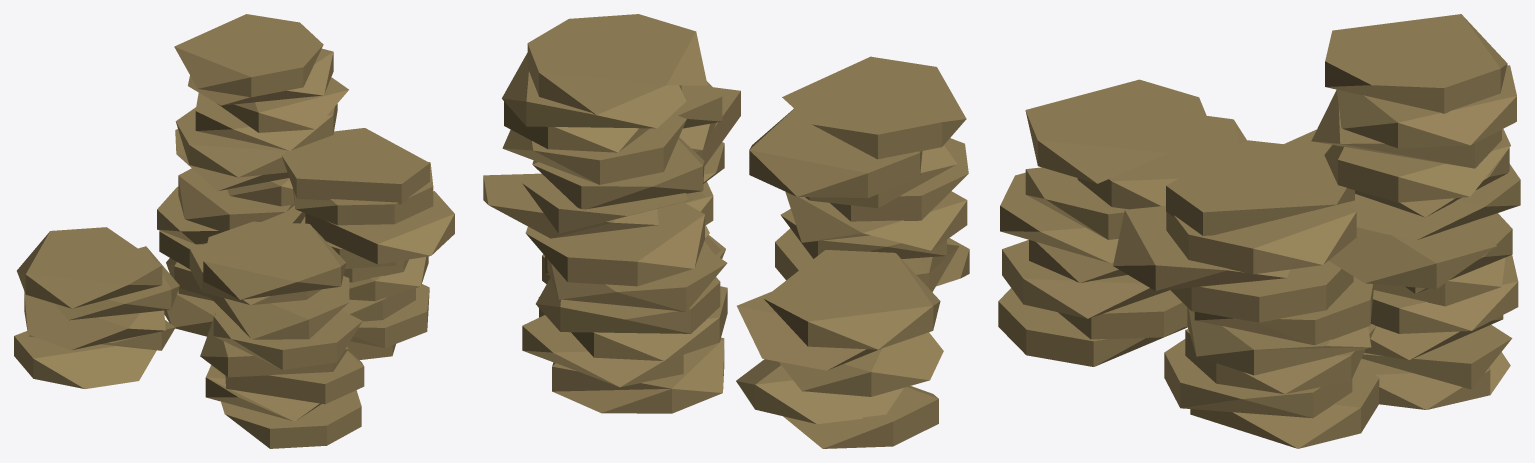
Rendered from D_Coin_Pile.glb.
The picture shows the model from 3 angles, left to right: view 1: azimuth 30°, elevation 25°; view 2: azimuth 150°, elevation 25°; view 3: azimuth 270°, elevation 25°; orthographic projection. The views are drawn at different scales.
Visible parts, largest first — view 1: Coin_Pile; view 2: Coin_Pile; view 3: Coin_Pile.
Boxes of the visible parts, <box> form: Coin_Pile: <box>14,14,454,448</box>; Coin_Pile: <box>483,14,969,448</box>; Coin_Pile: <box>998,14,1520,448</box>.
Size of the model in its own units: 0.1364 by 0.0946 by 0.1355.
